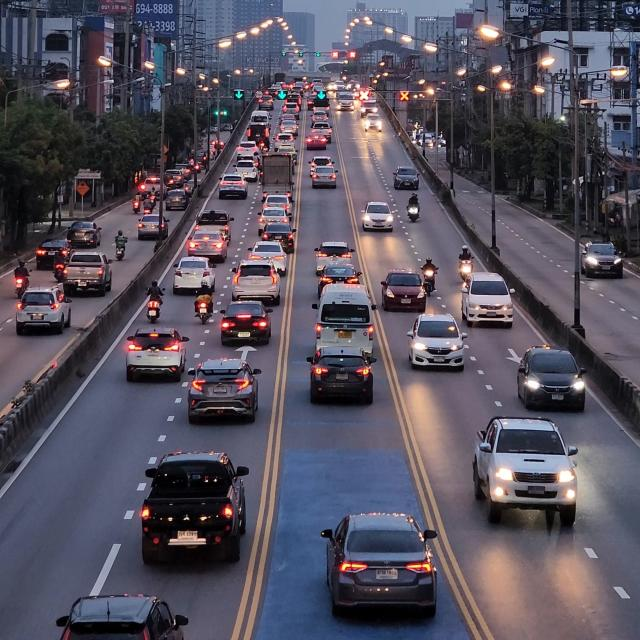Car: (137, 447, 259, 574), (321, 511, 440, 625), (471, 412, 576, 529), (304, 280, 388, 363), (514, 340, 596, 422), (190, 358, 268, 428), (303, 348, 381, 412), (124, 324, 194, 386), (464, 268, 524, 336), (408, 312, 467, 377), (215, 299, 278, 349), (15, 286, 77, 335), (228, 259, 288, 304), (62, 250, 116, 297), (574, 234, 626, 282), (380, 269, 430, 317), (172, 256, 218, 298)
